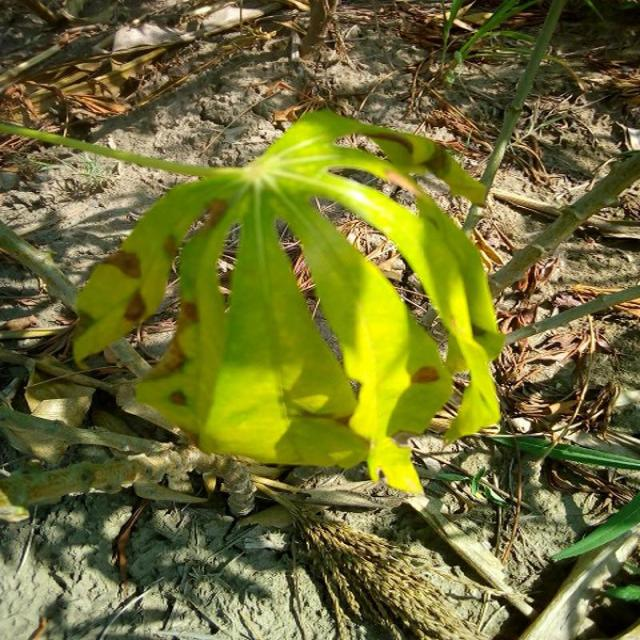cassava leaf: (70, 106, 506, 497)
